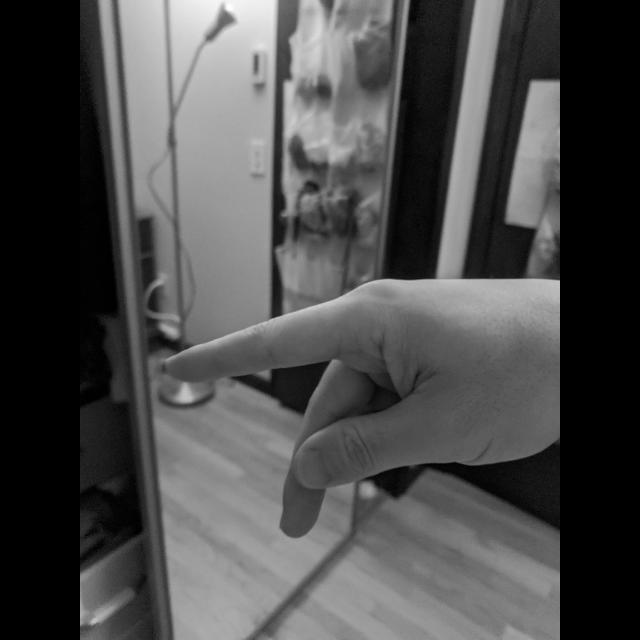P: (158, 268, 560, 544)
